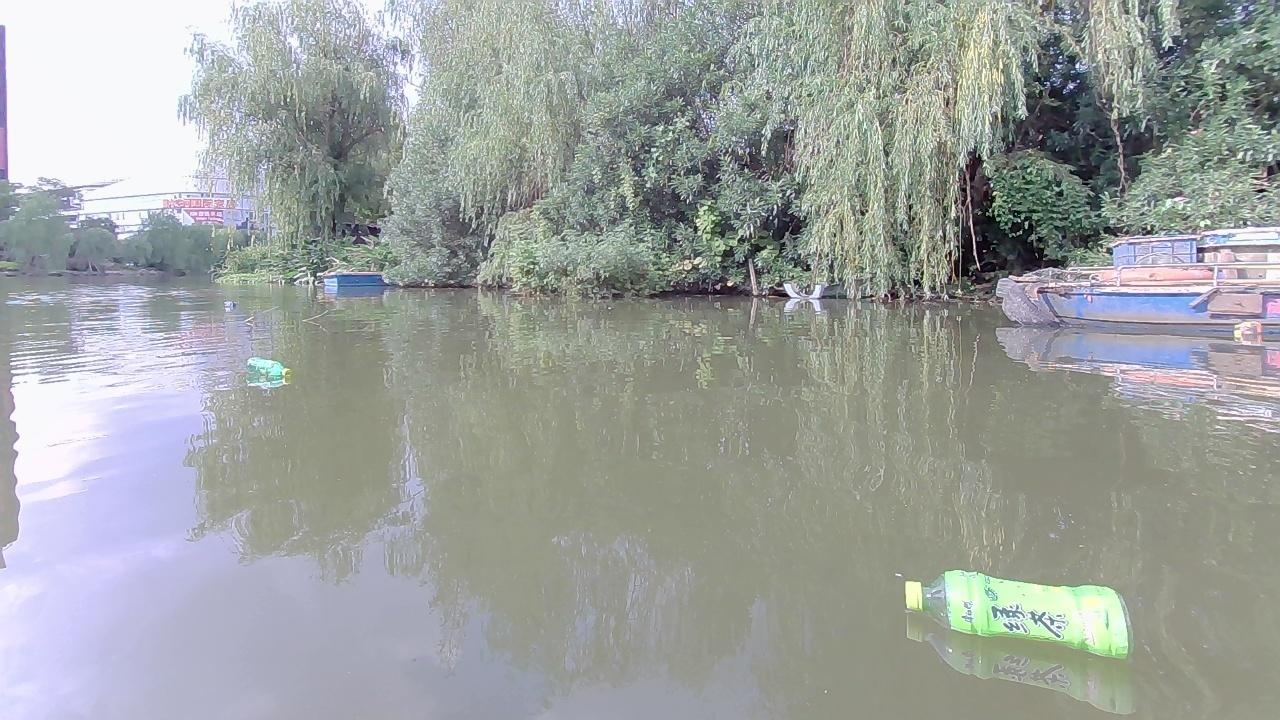bottle: (888, 553, 1141, 667), (243, 354, 291, 382), (221, 299, 242, 312)
